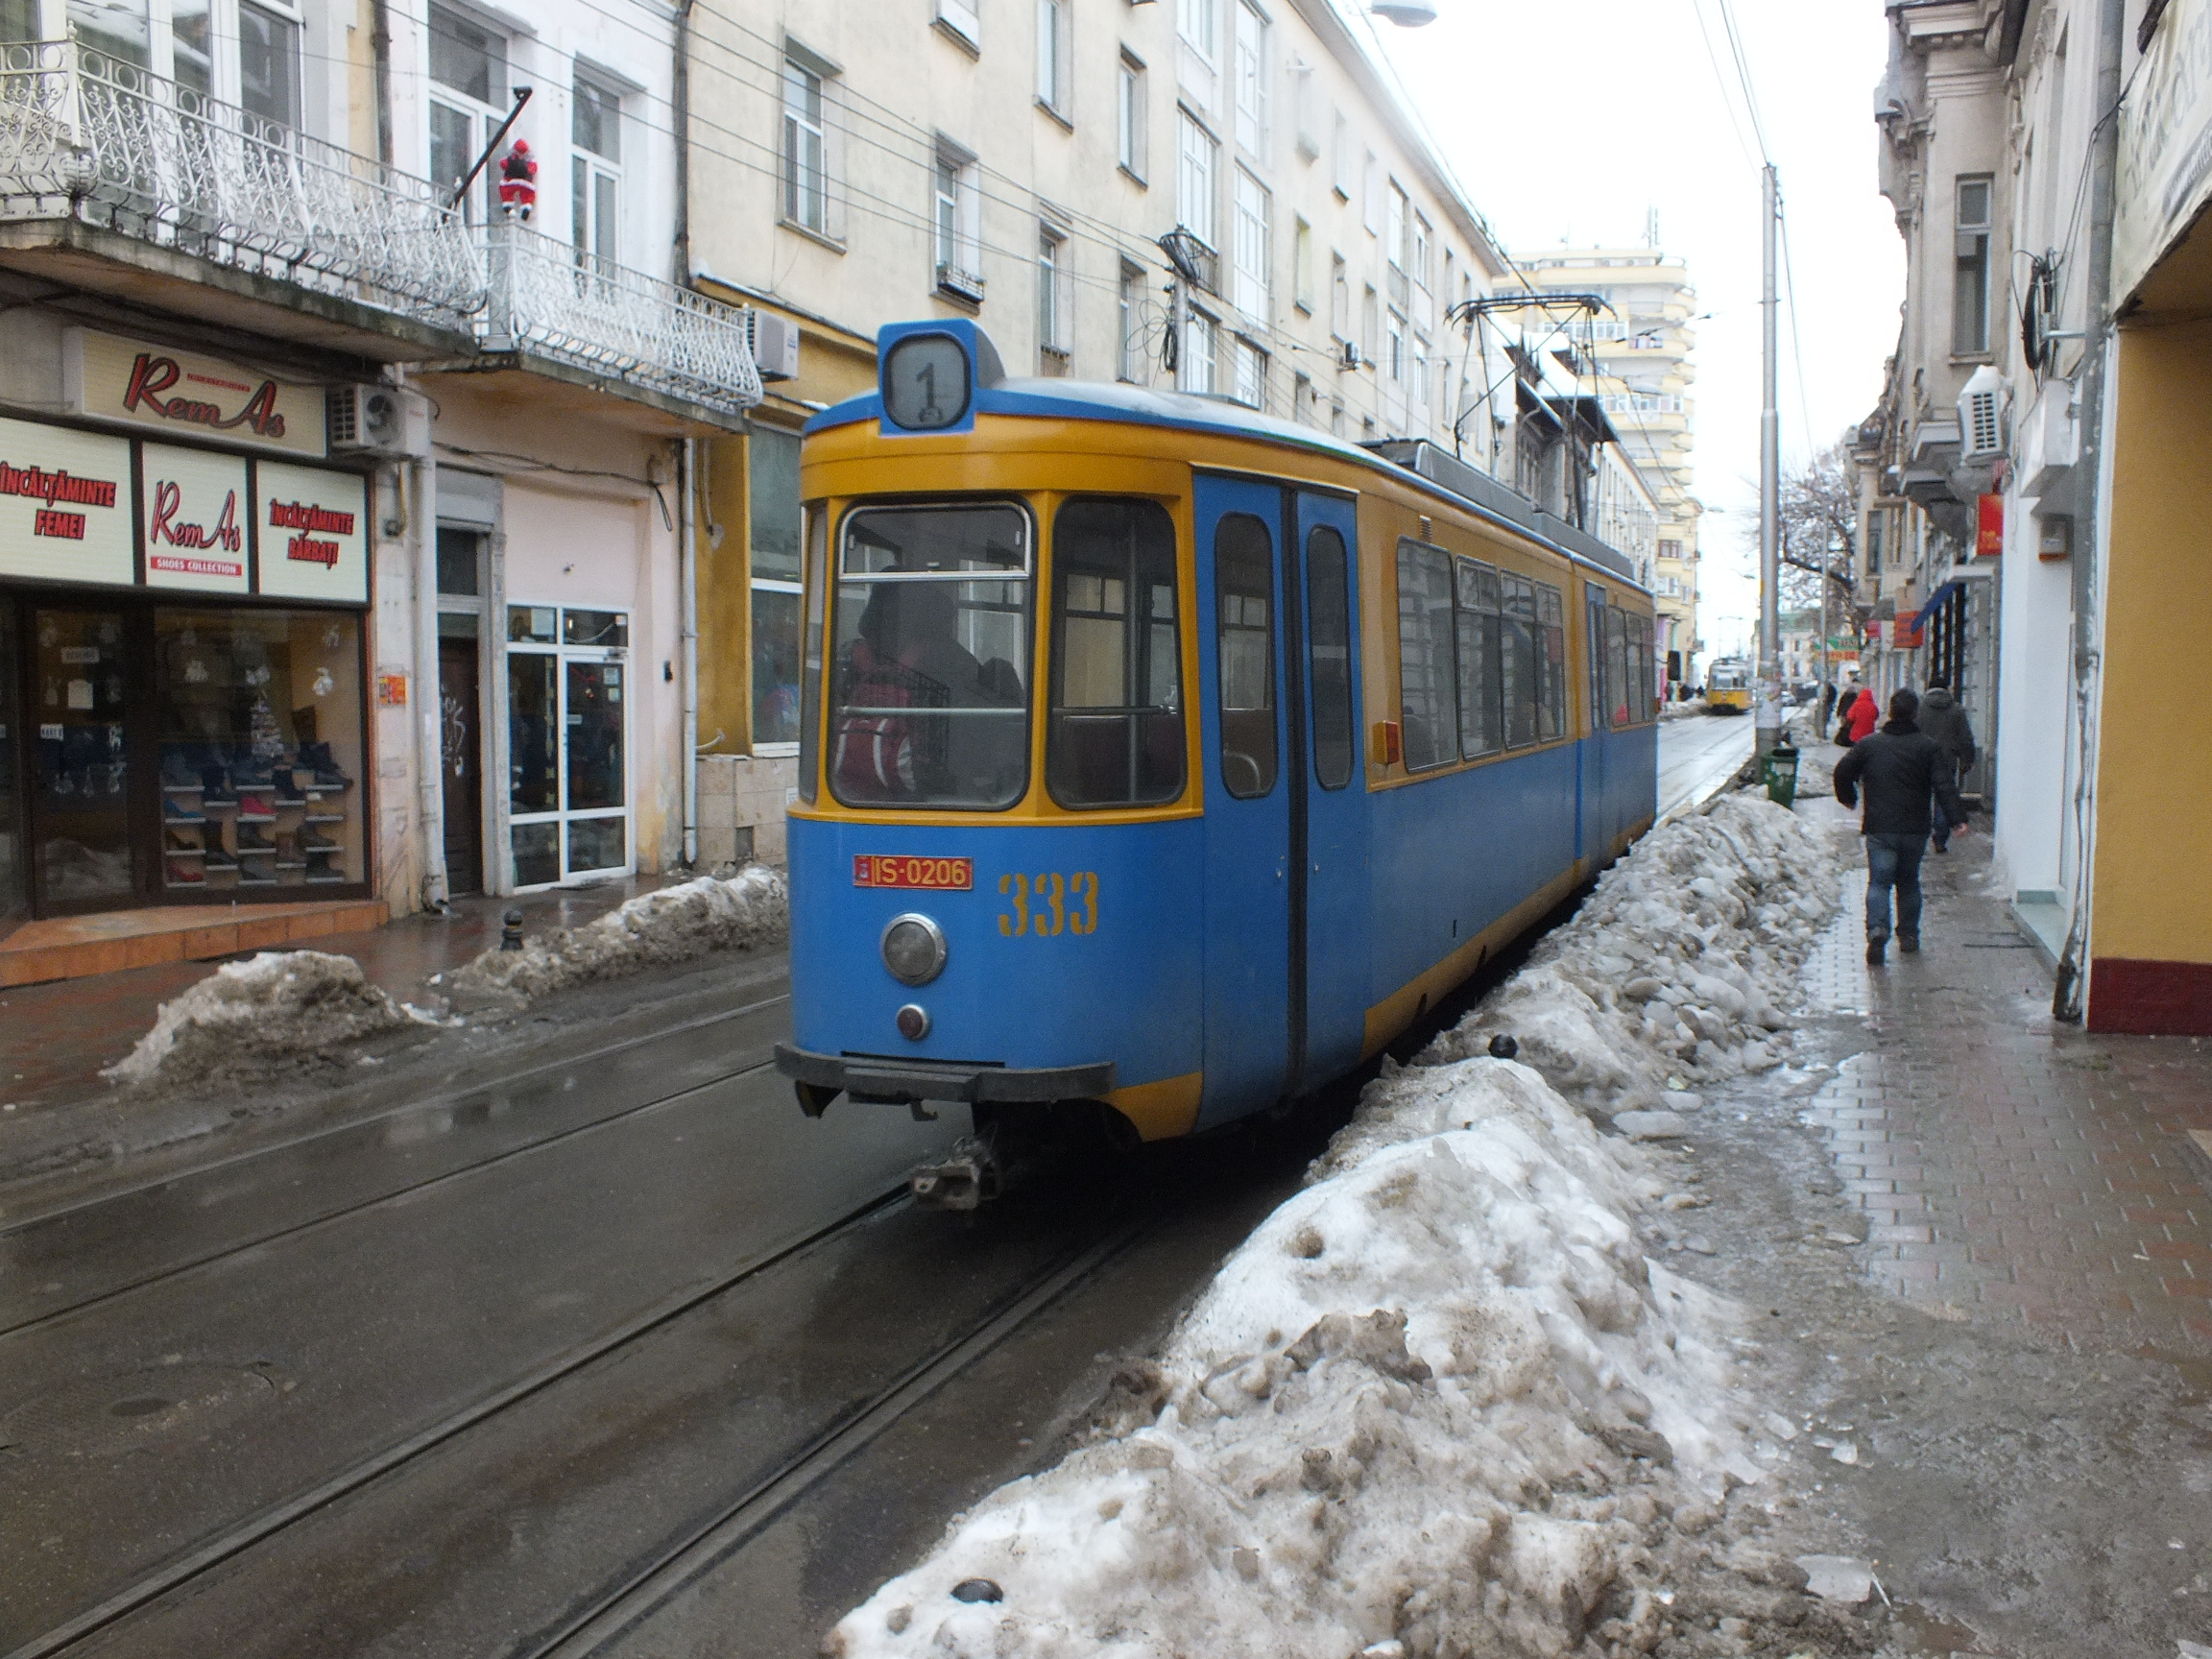IS0206: (863, 856, 970, 891)
